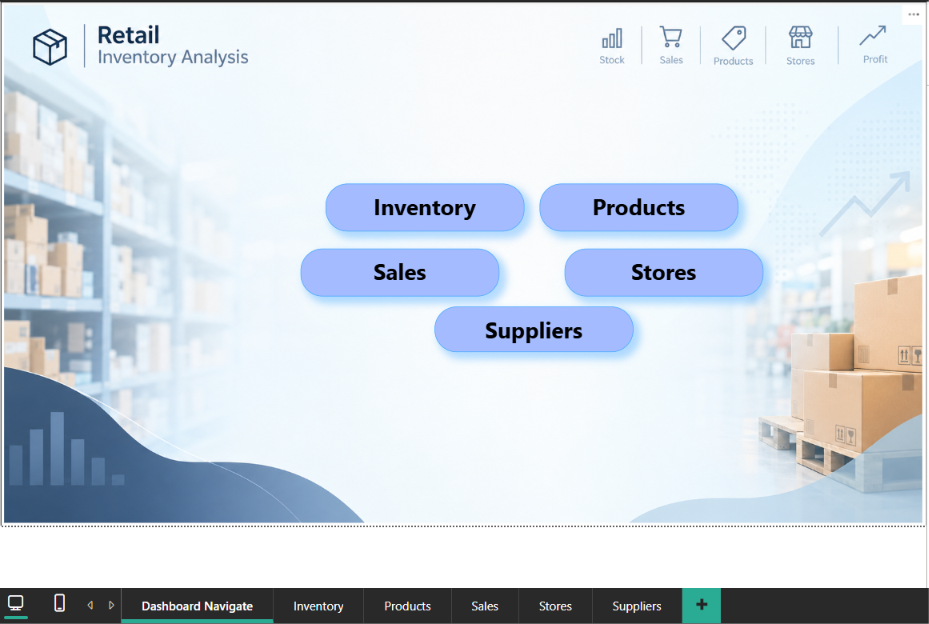

What the dashboard file says about the page in this screenshot:
{"tool":"powerbi","page":{"name":"Dashboard Navigate","canvas":[1280,720],"ordinal":0},"visuals":[{"type":"image","box":[9.6,0,1270.7,720.4],"z":0}]}

Visuals, with their boxes on the page's 1280x720 design canvas (x1, y1, x2, y2). These are canvas units, not pixel positions in the 929x624 screenshot, which may show the page scaled, cropped or inside an application window:
image: BBox(10, 0, 1280, 720)
